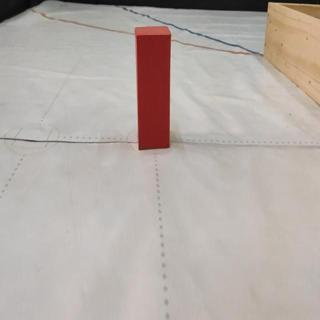redbox: (133, 24, 173, 152)
